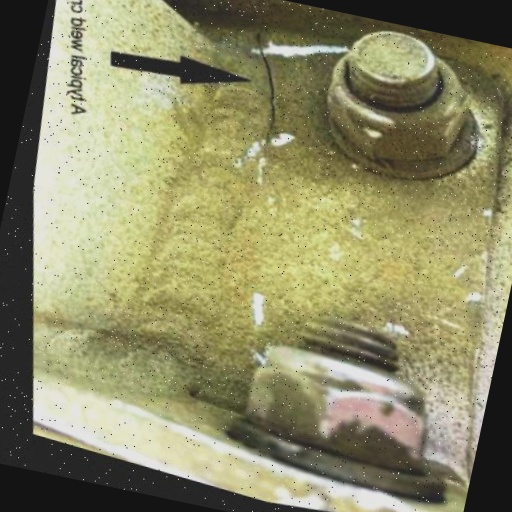crack: (129, 49, 417, 192)
